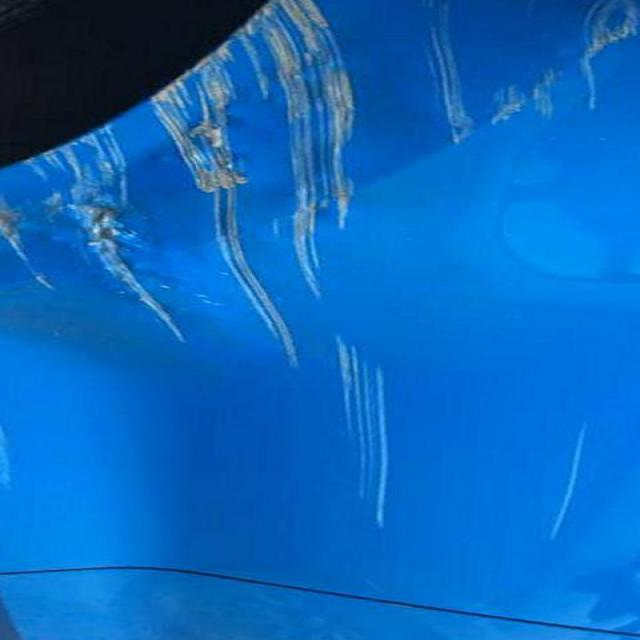scratch: (24, 0, 415, 346), (438, 0, 640, 141), (320, 338, 413, 544), (526, 418, 597, 551)
